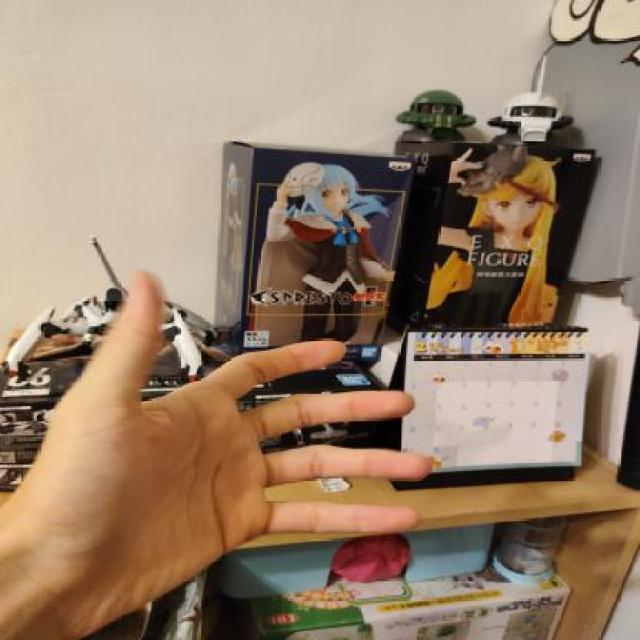bare_hand: (6, 257, 440, 640)
